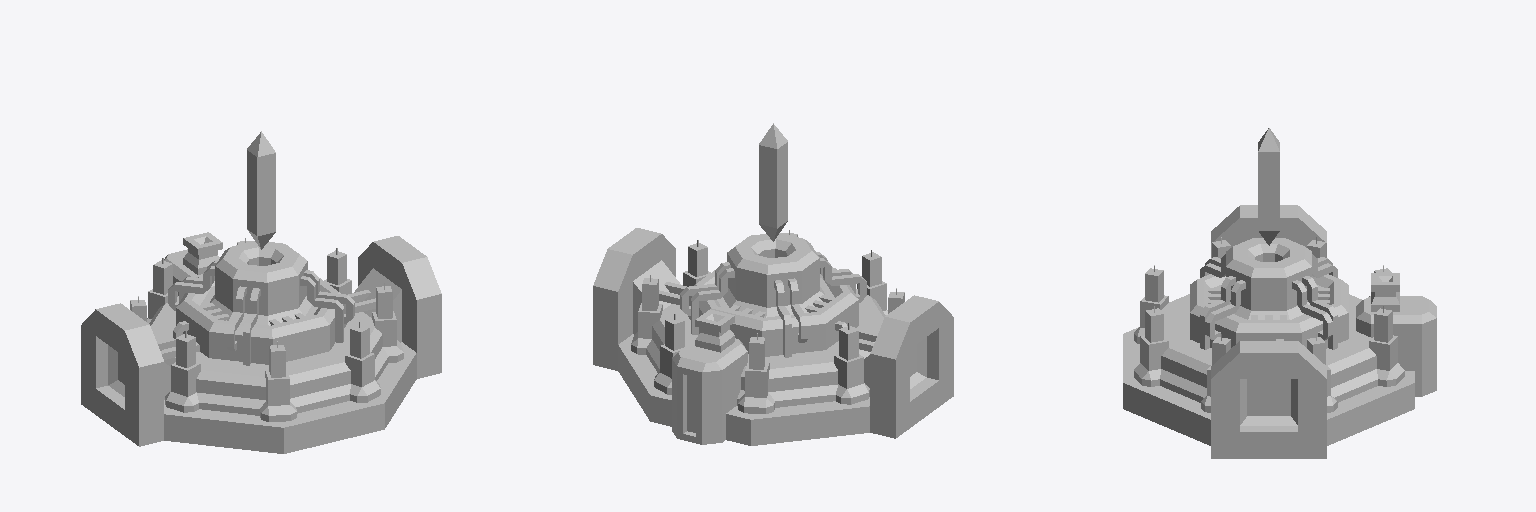
The model's file is alchemical_nexus_inventory.obj.
3 views of the same model, side by side, from view 1: azimuth 30°, elevation 25°; view 2: azimuth 150°, elevation 25°; view 3: azimuth 270°, elevation 25° (orthographic).
Parts seen in each view (by area): view 1: ALCHEMICAL_NEXUS_BODY_Cube.000, ALCHEMICAL_NEXUS_CRYSTAL_Cube.040; view 2: ALCHEMICAL_NEXUS_BODY_Cube.000, ALCHEMICAL_NEXUS_CRYSTAL_Cube.040; view 3: ALCHEMICAL_NEXUS_BODY_Cube.000, ALCHEMICAL_NEXUS_CRYSTAL_Cube.040.
Part boxes in pixels (x1,y1,x2,y2): ALCHEMICAL_NEXUS_BODY_Cube.000: (81, 232, 441, 453); ALCHEMICAL_NEXUS_CRYSTAL_Cube.040: (247, 131, 275, 249); ALCHEMICAL_NEXUS_BODY_Cube.000: (593, 228, 953, 445); ALCHEMICAL_NEXUS_CRYSTAL_Cube.040: (759, 123, 787, 241); ALCHEMICAL_NEXUS_BODY_Cube.000: (1123, 205, 1436, 458); ALCHEMICAL_NEXUS_CRYSTAL_Cube.040: (1258, 128, 1279, 245).
Bounding box in the file's own units: 3 × 2.44 × 2.69.